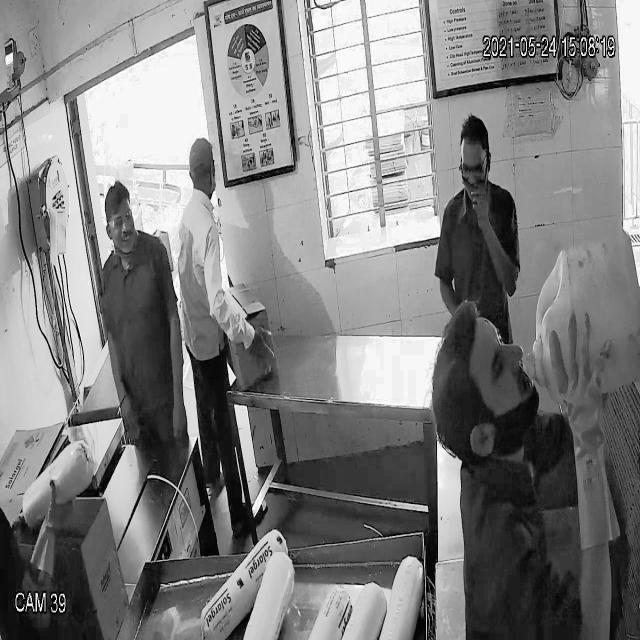glasses: (458, 149, 492, 183), (102, 206, 138, 238)
no-glass: (485, 313, 513, 448)
